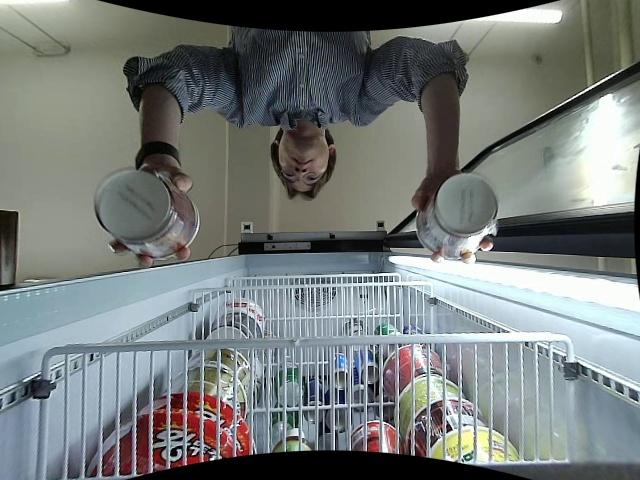00_hand: (111, 164, 194, 269), (413, 178, 492, 264)
06_nuguri_S: (96, 174, 200, 261), (419, 173, 497, 257)
